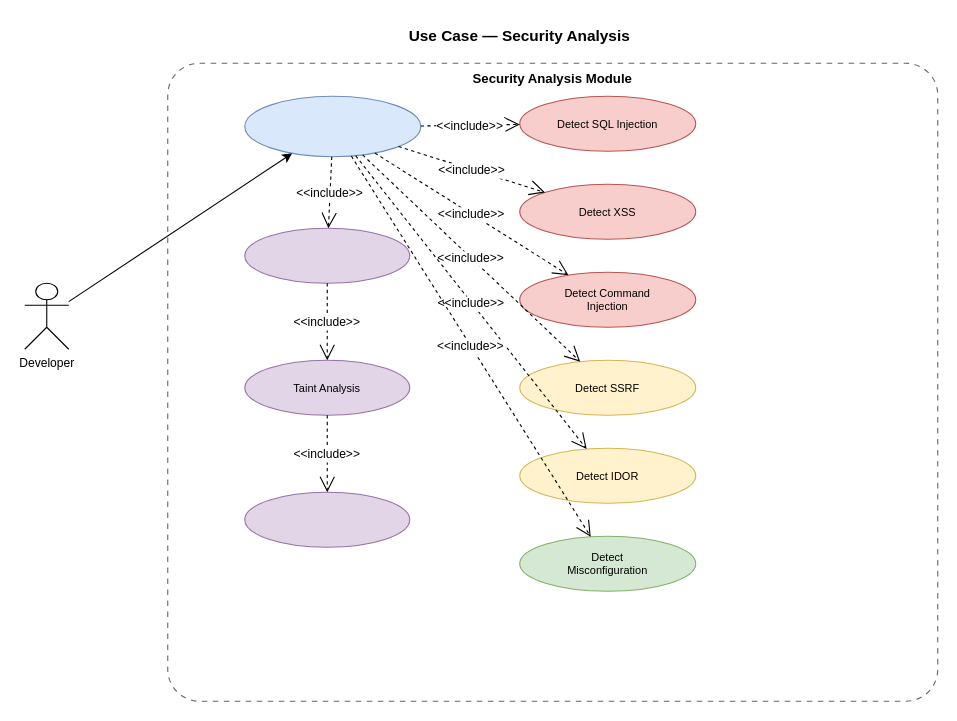
The diagram is 957 pixels wide and 721 high, and some of its shapes have lost their labels. The shapes that lost their labels are listed below. From the top down, each one's box as (x1, y1, x2, y2) in pixels, then its label:
(244, 95, 421, 157): Analyze Security (Full Scan)
(244, 227, 410, 283): Build CFG/DFG
(244, 491, 410, 547): Score Severity
